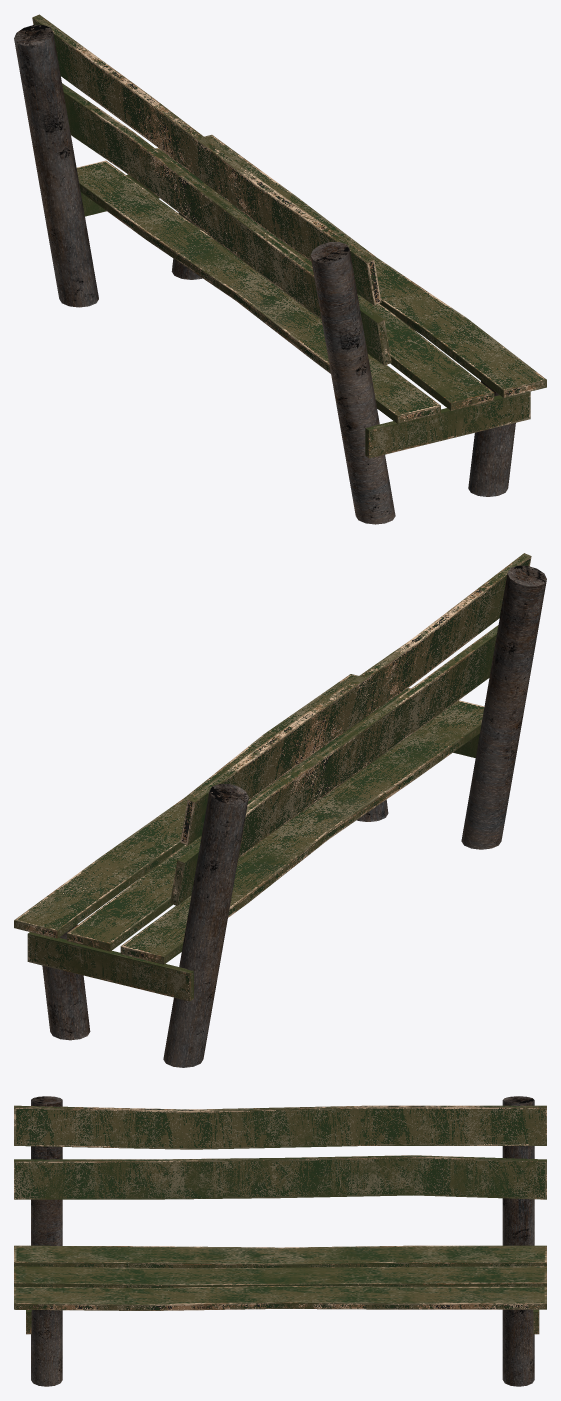
Rendered from benchFBX.fbx.
3 renders of one model, top to bottom at view 1: azimuth 30°, elevation 25°; view 2: azimuth 150°, elevation 25°; view 3: azimuth 270°, elevation 25°, orthographic. The views are drawn at different scales.
Visible parts, largest first — view 1: bench_low; view 2: bench_low; view 3: bench_low.
Part boxes in pixels (bbox=[...]): bench_low: bbox=[14, 14, 546, 524]; bench_low: bbox=[14, 553, 546, 1067]; bench_low: bbox=[14, 1096, 546, 1386].
Size of the model in its own units: 38.57 by 47.43 by 103.
